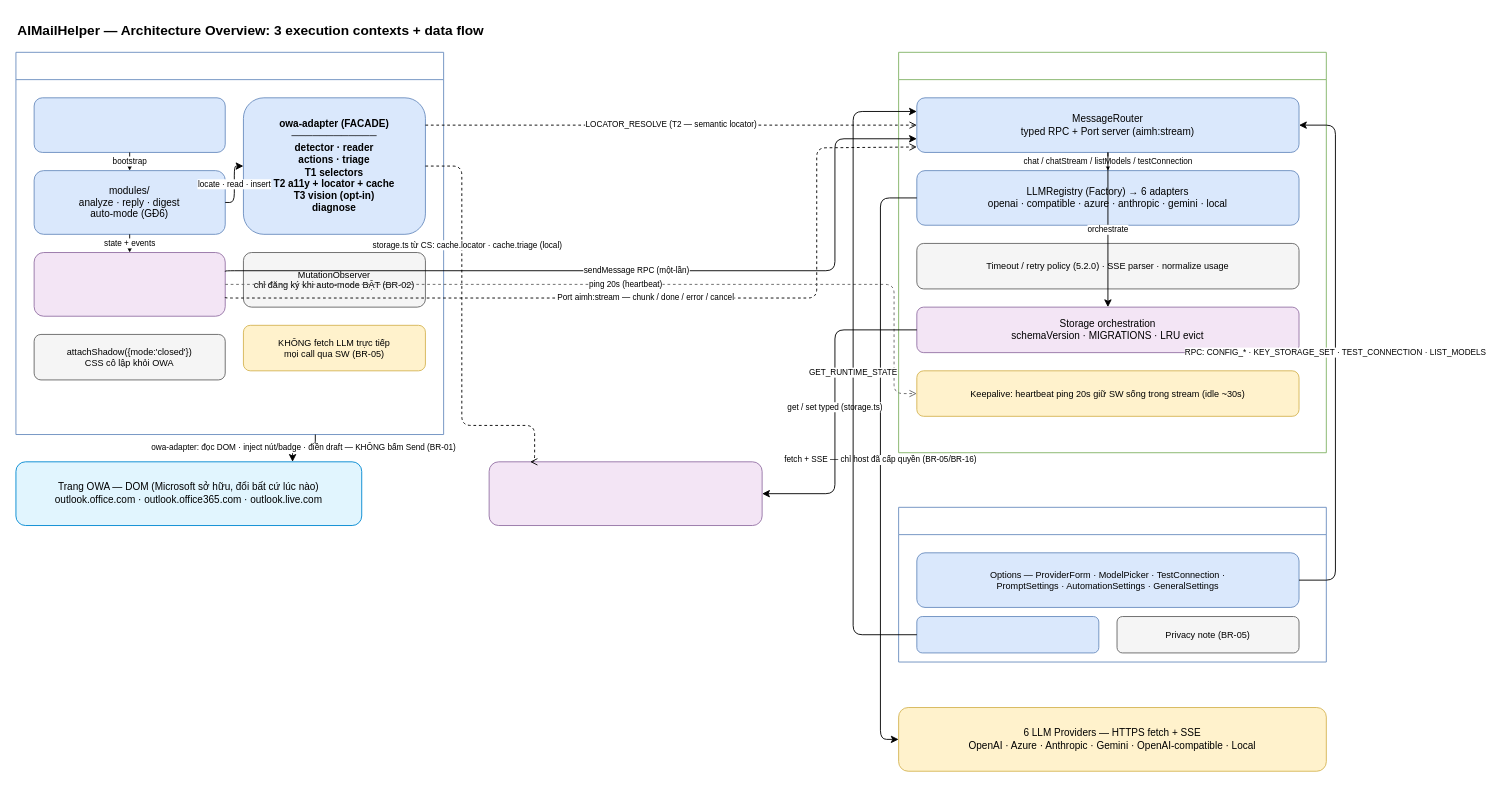
The diagram is 1502 pixels wide and 787 high, and some of its shapes have lost their labels. Here are the shapes that lost their labels. From the top down, the box of each, then its label:
(33, 97, 225, 152): content/index.tsx entry — boot + inject panel
(15, 51, 444, 435): CONTEXT 1 — CONTENT SCRIPT (chạy trong trang OWA — isolated world)
(898, 51, 1326, 453): CONTEXT 2 — SERVICE WORKER (MV3 — non-persistent)
(33, 252, 225, 316): Panel AI (React) Shadow DOM closed
(488, 461, 762, 526): chrome.storage sync: config + key · local: cache + queue
(898, 506, 1326, 662): CONTEXT 3 — EXTENSION PAGES (React)
(916, 616, 1099, 653): Popup — trạng thái nhanh
